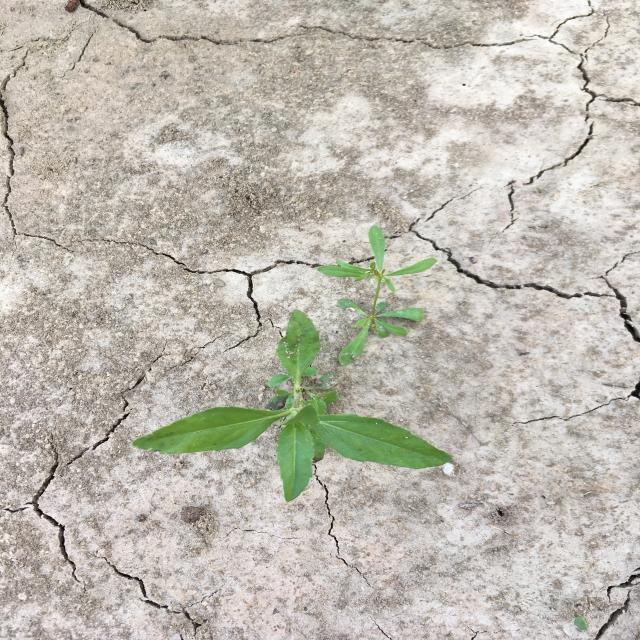Carpetweed: (313, 223, 440, 367)
Eclipta: (127, 308, 455, 503)
